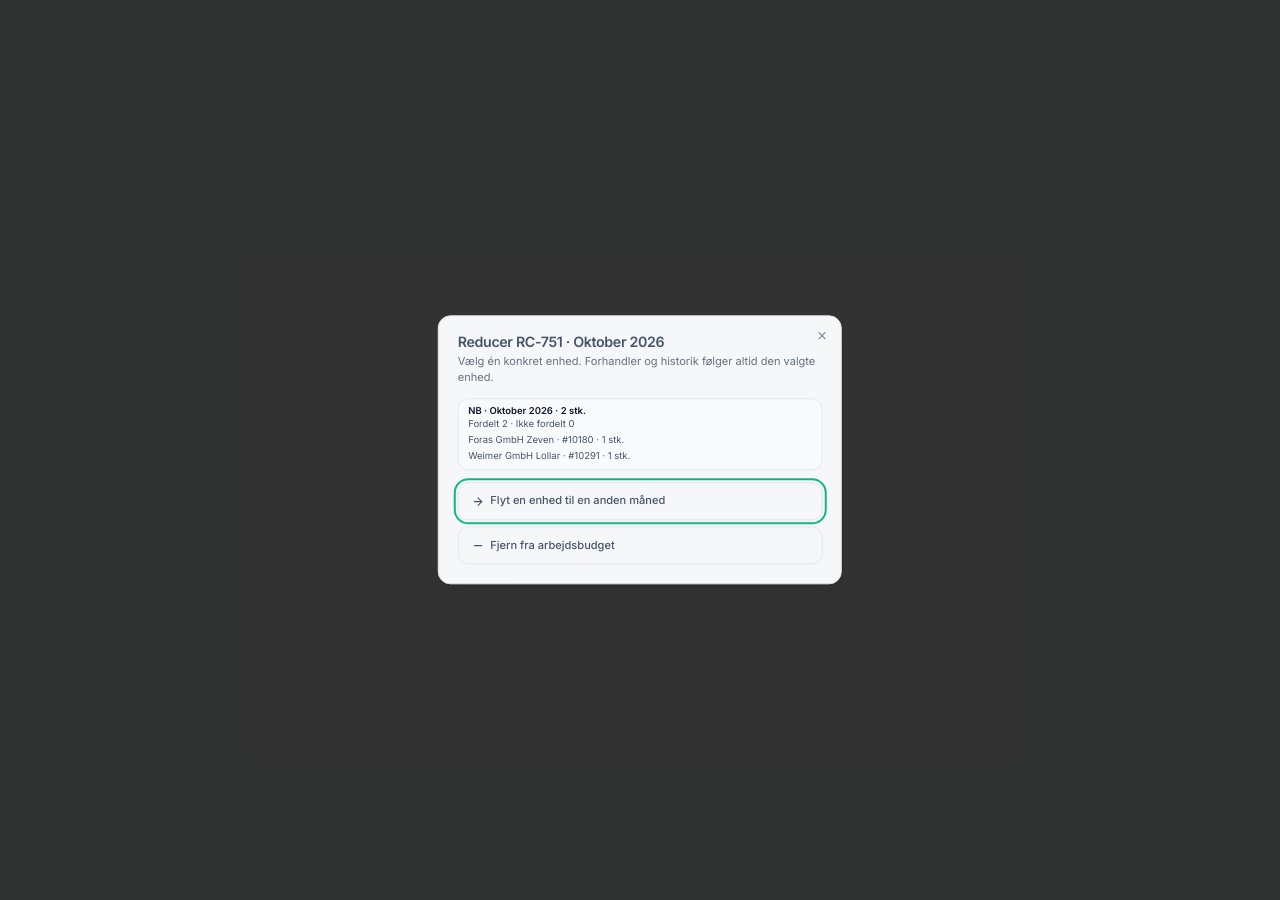
Working Budget unit actions › requires an explicit allocated unit for minus and remains narrow-safe
Later steps or results of the test are not shown.
Click the button "Fjern fra arbejdsbudget".
click(552, 545)  # box [458,527,822,565]
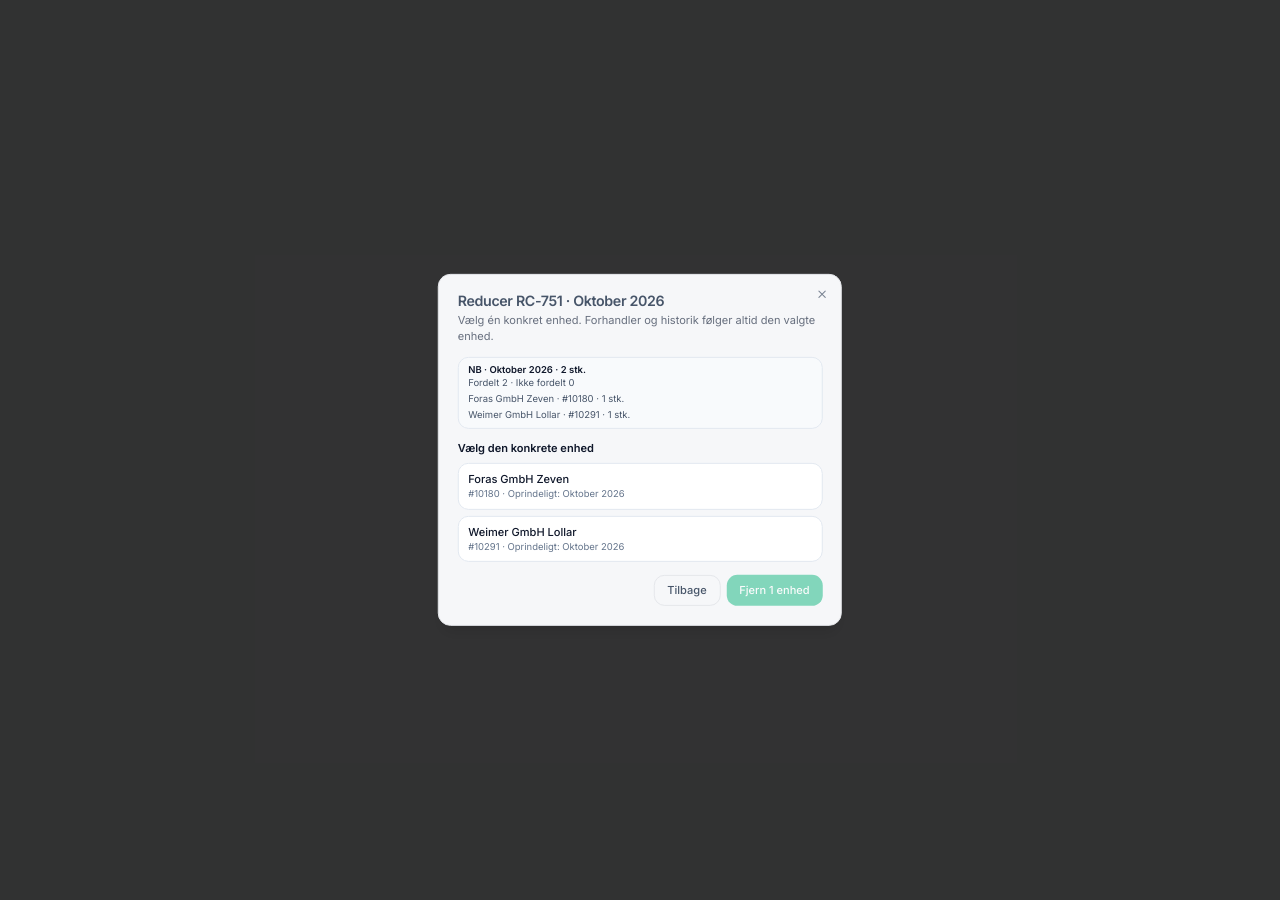
expect the button "Fjern 1 enhed" is disabled: met, box [727,575,822,606]
